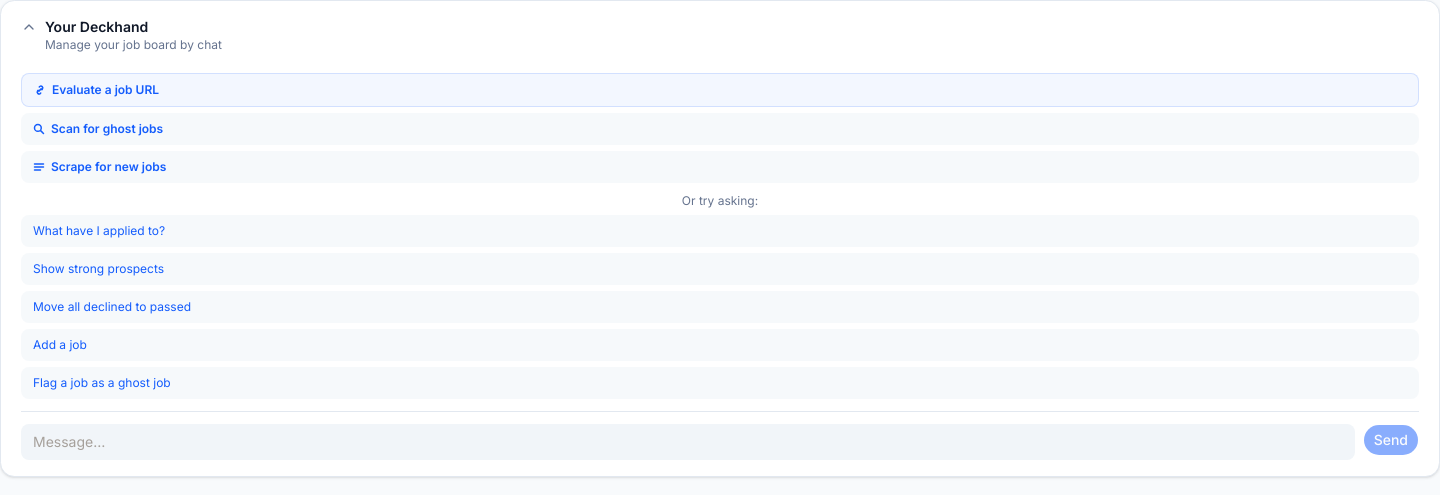
Test case: ChatDrawer evaluation without detected company/role › disables Add to pending and shows a manual-add message when company and role are both empty
Type "Evaluate this job URL: https://example.com/job" into the field with placeholder "Message…". click: (688, 442)
box: [21, 424, 1355, 460]
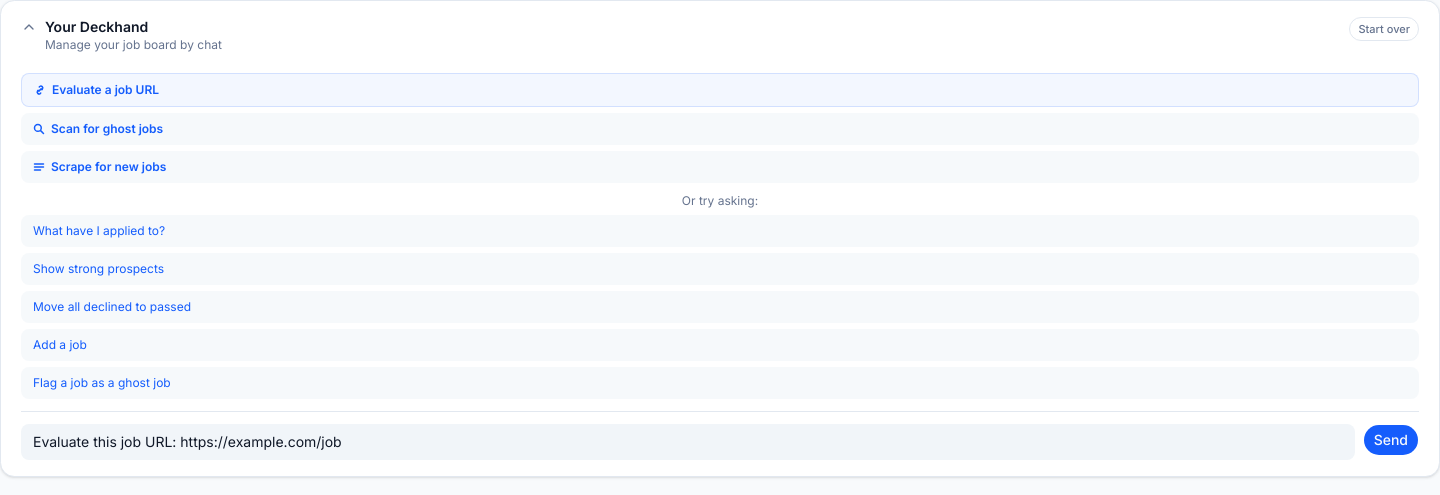
Click the button "Send". click: (1391, 440)
box: [1363, 424, 1419, 456]
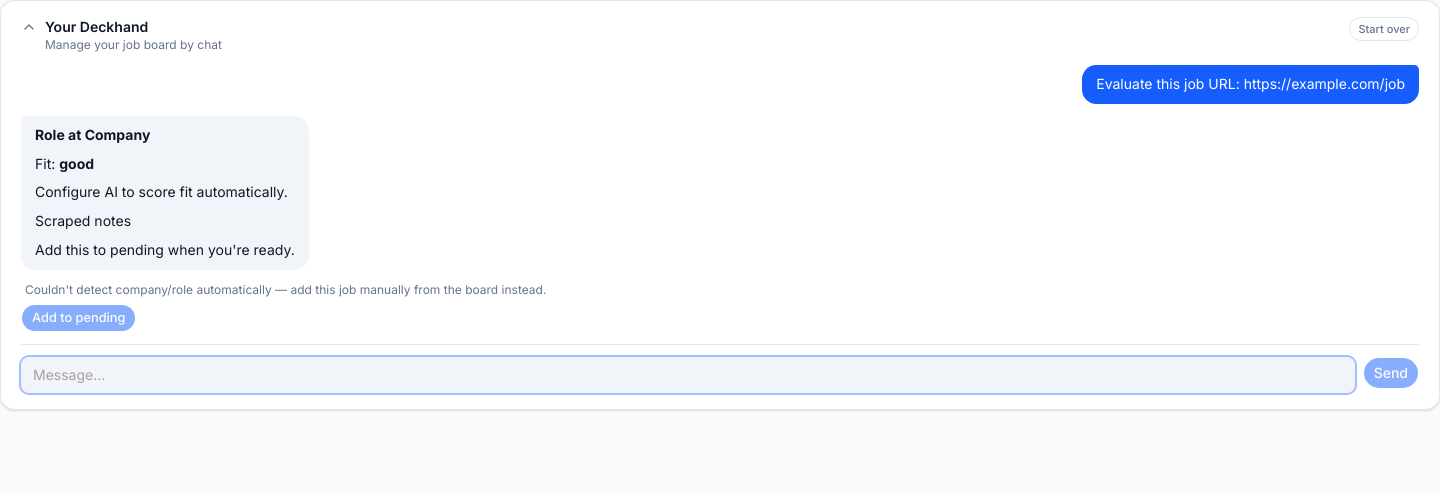
Result: the text "Couldn't detect company/role automatically" is shown at [25, 282, 546, 296]
Result: the button "Add to pending" is disabled at [21, 304, 136, 332]
